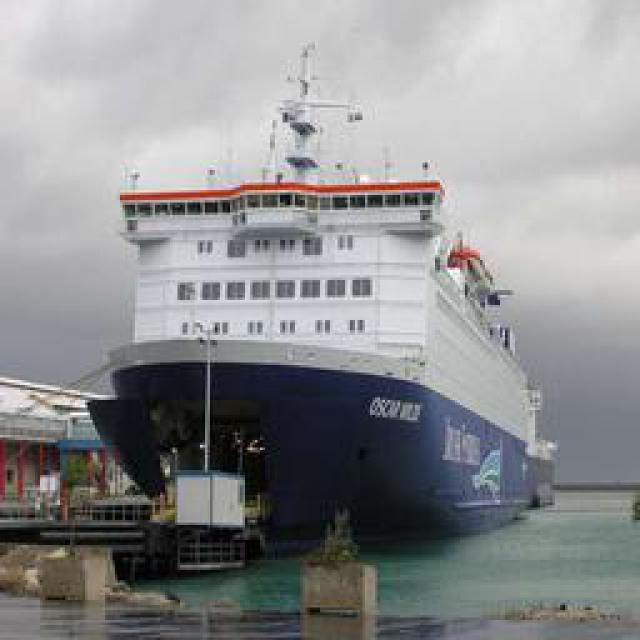Ship: (87, 51, 567, 556)
